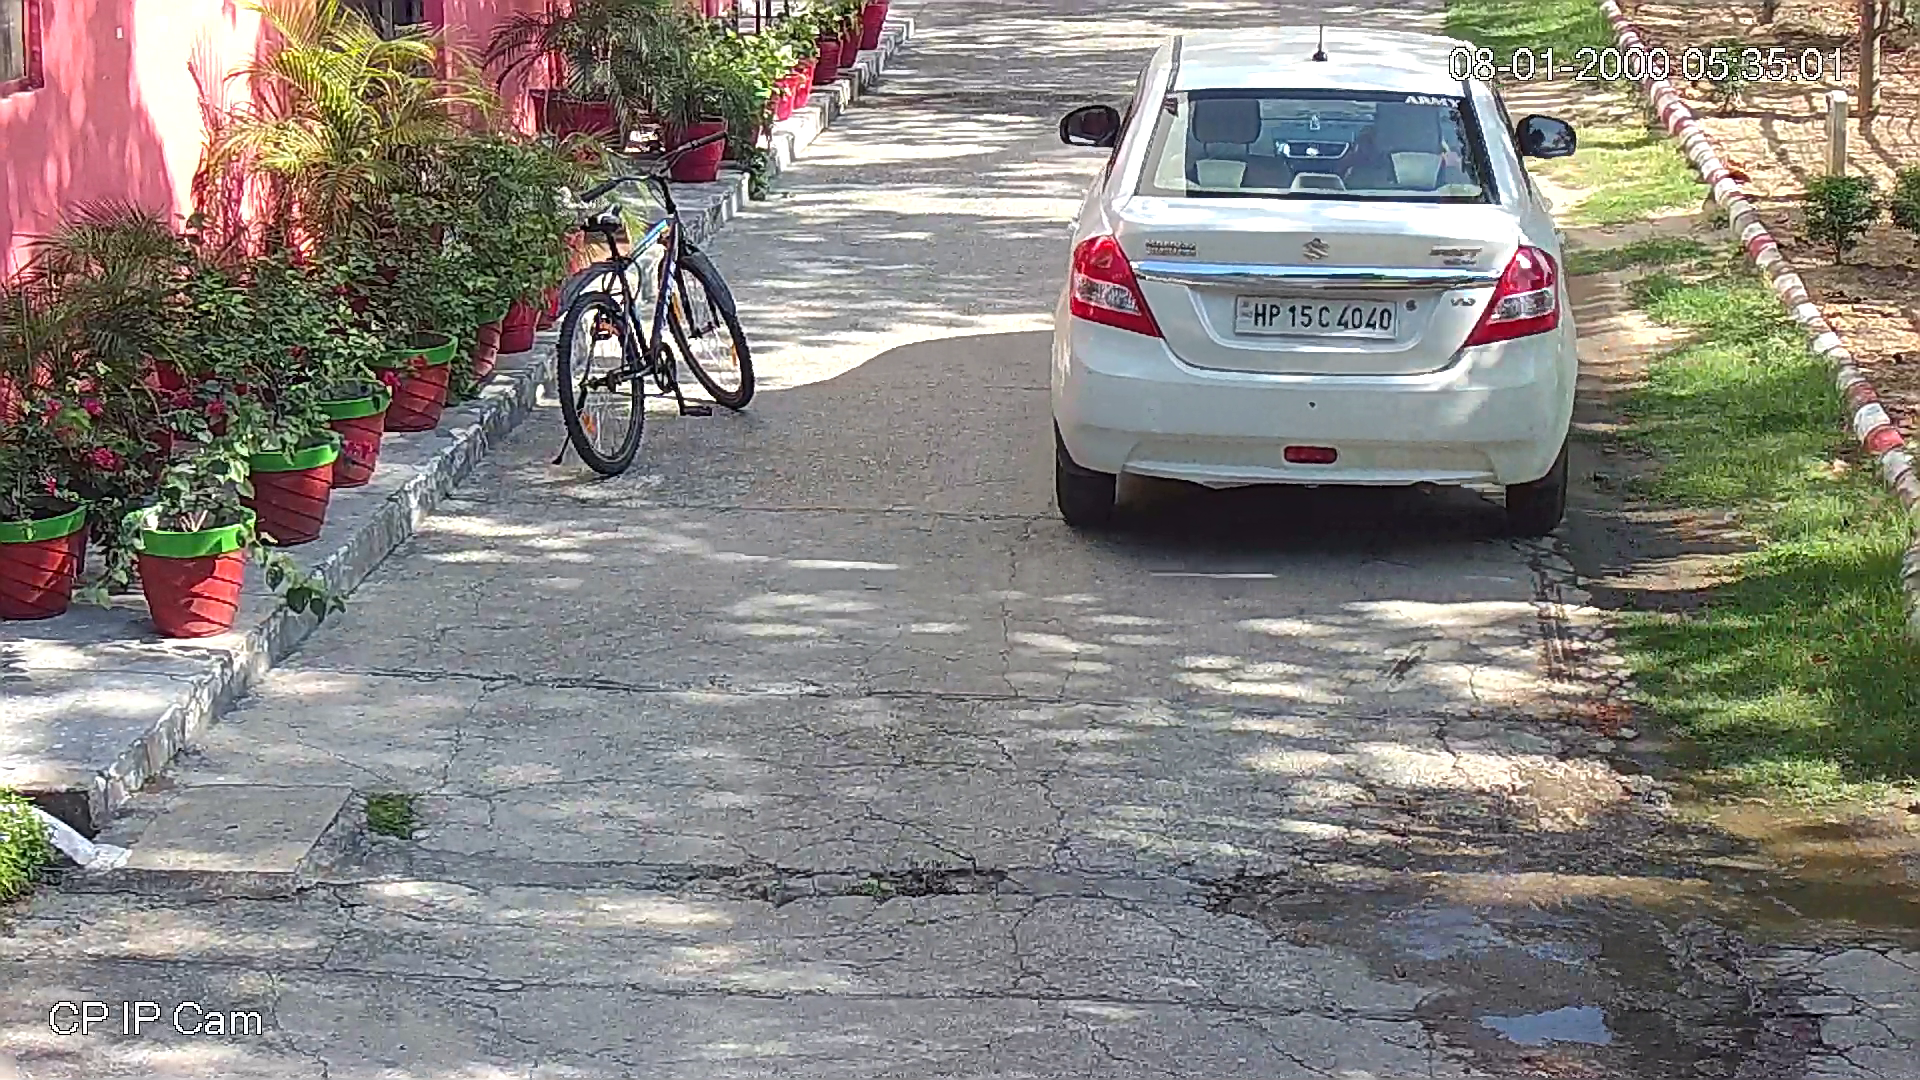plate: (1230, 291, 1404, 344)
